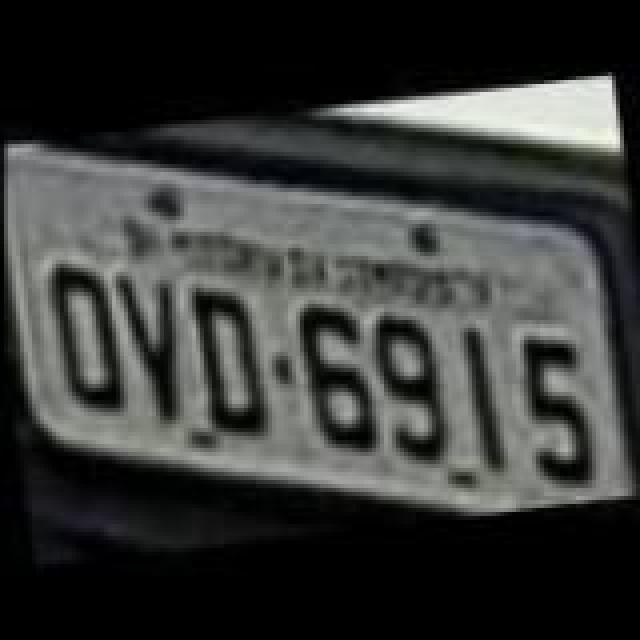1: (448, 314, 516, 478)
5: (502, 322, 606, 494)
6: (294, 292, 386, 456)
9: (362, 306, 458, 470)
D: (182, 270, 274, 450)
O: (44, 256, 140, 424)
V: (112, 260, 200, 440)
